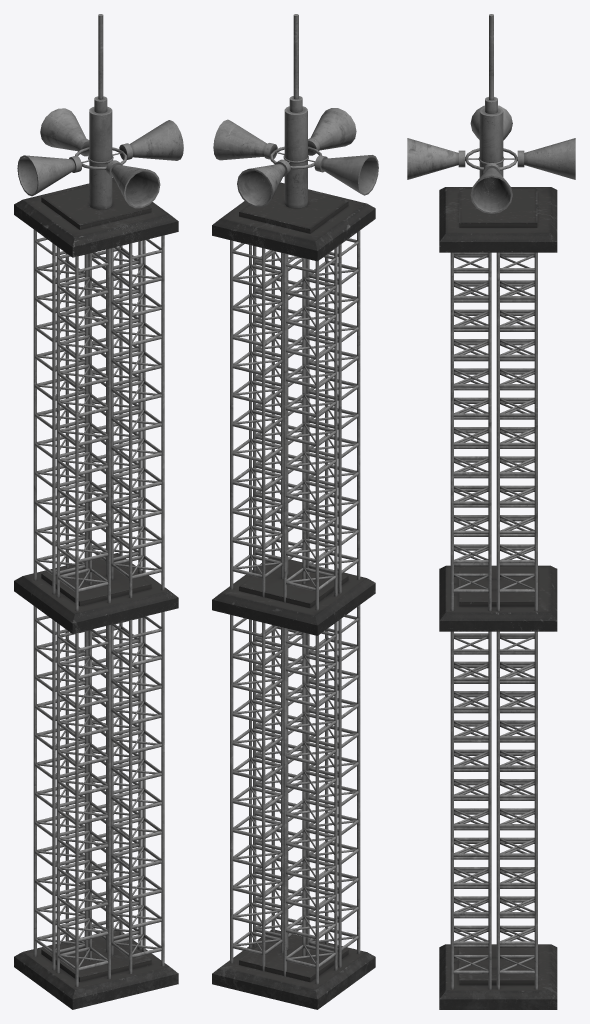
File: SM_NRT_Start_RadioTower.fbx
The picture shows the model from 3 angles, left to right: view 1: azimuth 30°, elevation 25°; view 2: azimuth 150°, elevation 25°; view 3: azimuth 270°, elevation 25°; orthographic projection.
Parts seen in each view (by area): view 1: SM_NRT_Start_RadioTower_LOD0; view 2: SM_NRT_Start_RadioTower_LOD0; view 3: SM_NRT_Start_RadioTower_LOD0.
Boxes of the visible parts, x1=… form: SM_NRT_Start_RadioTower_LOD0: x1=14, y1=14, x2=183, y2=1009; SM_NRT_Start_RadioTower_LOD0: x1=212, y1=14, x2=378, y2=1009; SM_NRT_Start_RadioTower_LOD0: x1=407, y1=14, x2=575, y2=1009.
Size of the model in its own units: 239 by 239 by 1513.
Materials: 1 (1 with a texture image).
